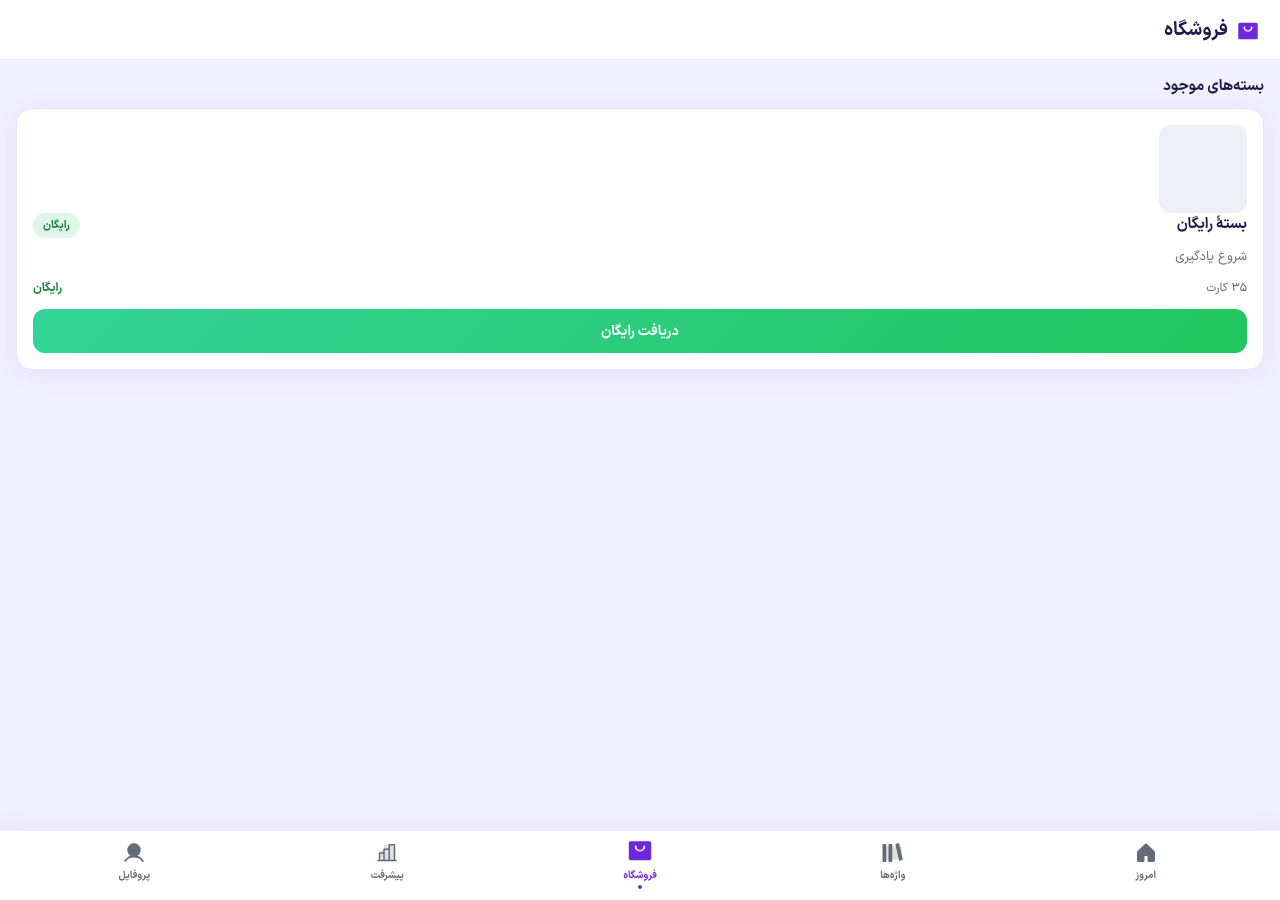
Test: M2.3 Store screen states › surfaces an acquisition failure instead of claiming success
Click the button "دریافت رایگان". click: coordinates (640, 331)
box: [33,309,1247,353]
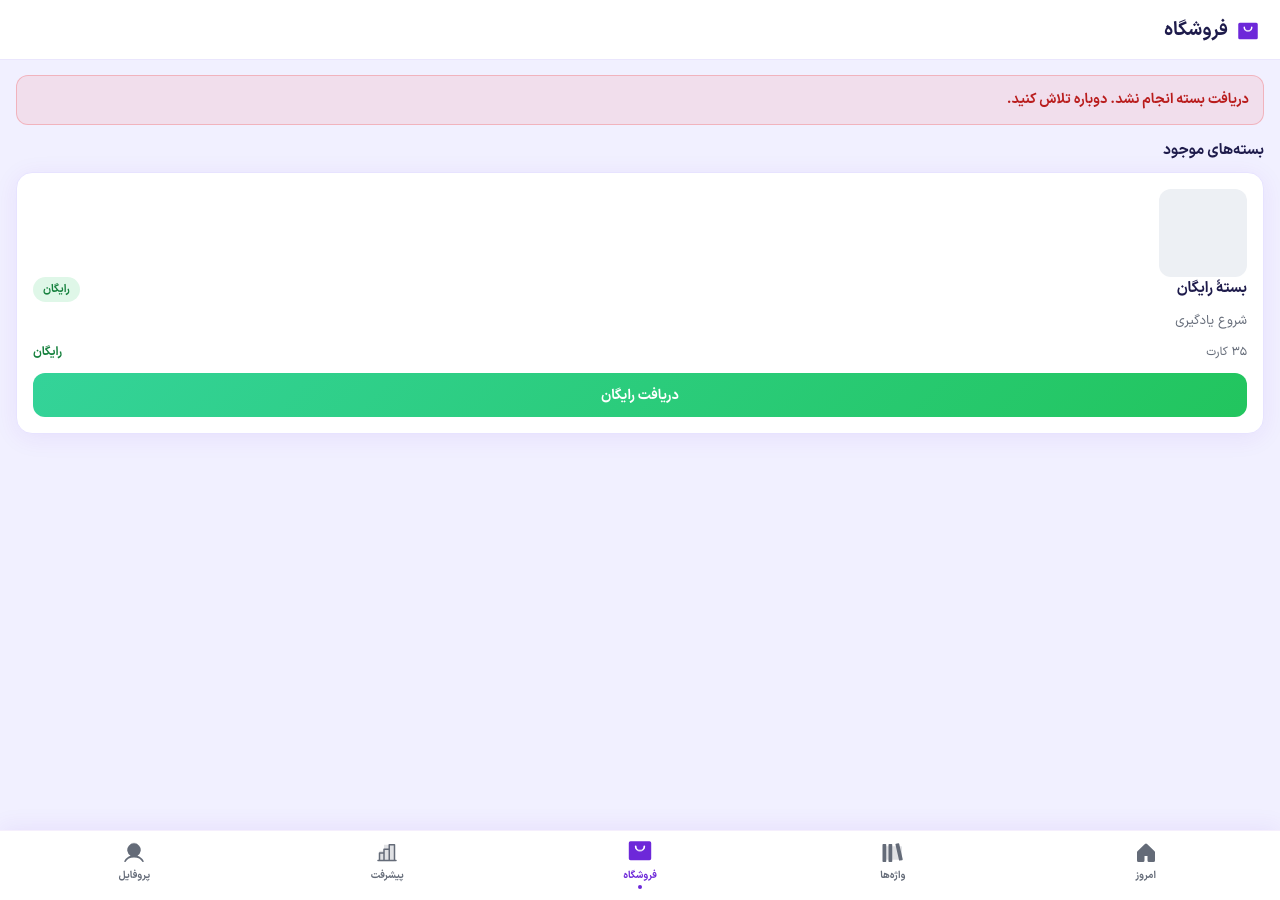
Result: the message "دریافت بسته انجام نشد. دوباره تلاش کنید." is shown at [16,75,1264,125]
